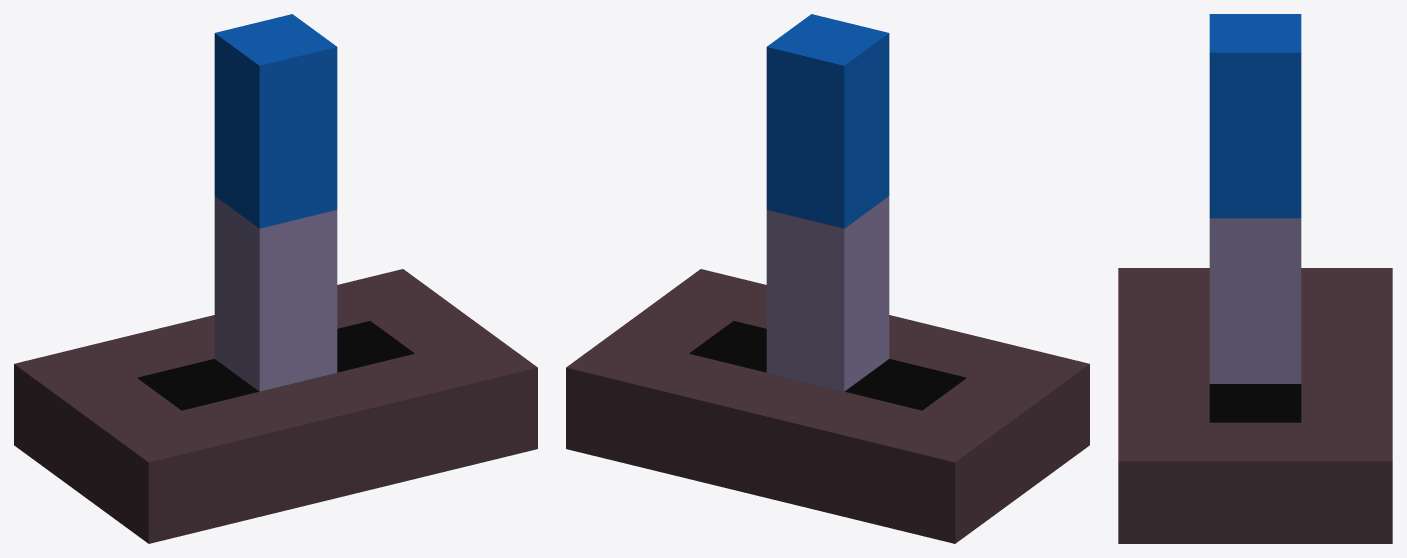
File: lever_b_b_blue_off.obj
The picture shows the model from 3 angles, left to right: view 1: azimuth 30°, elevation 25°; view 2: azimuth 150°, elevation 25°; view 3: azimuth 270°, elevation 25°; orthographic projection.
Bounding box in the file's own units: 0.5 × 0.5 × 0.3.
Materials: 1 (1 with a texture image).
